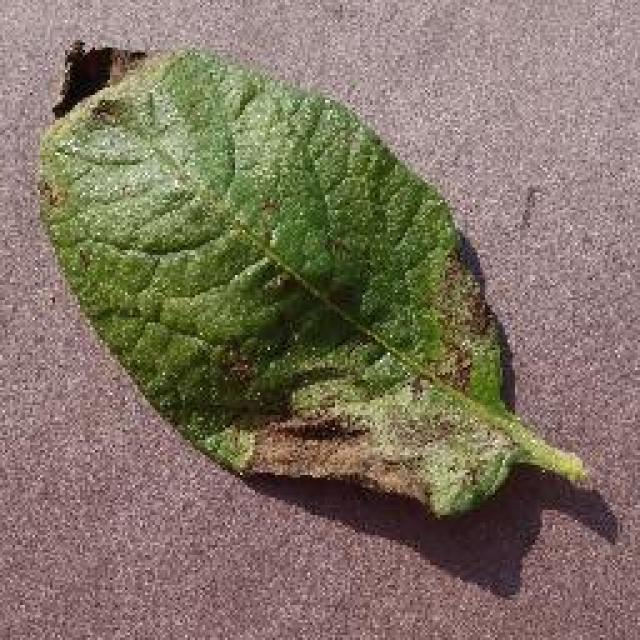late_blight: (33, 38, 595, 522)
